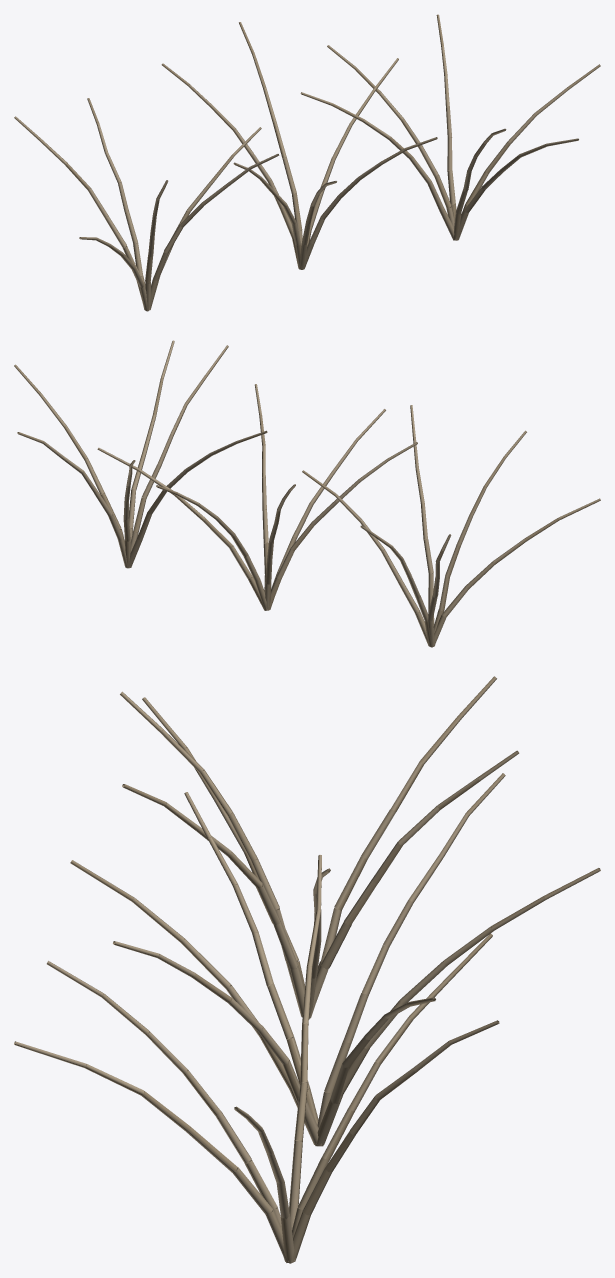
Rendered from groseillier_repos.glb.
The picture shows the model from 3 angles, top to bottom: view 1: azimuth 30°, elevation 25°; view 2: azimuth 150°, elevation 25°; view 3: azimuth 270°, elevation 25°; orthographic projection. The views are drawn at different scales.
Visible parts, largest first — view 1: Groseillier_Tiges; view 2: Groseillier_Tiges; view 3: Groseillier_Tiges.
Boxes of the visible parts, <box> form: Groseillier_Tiges: <box>14,14,600,311</box>; Groseillier_Tiges: <box>14,340,600,647</box>; Groseillier_Tiges: <box>14,676,600,1263</box>.
Size of the model in its own units: 2.48 by 0.7998 by 1.39.
